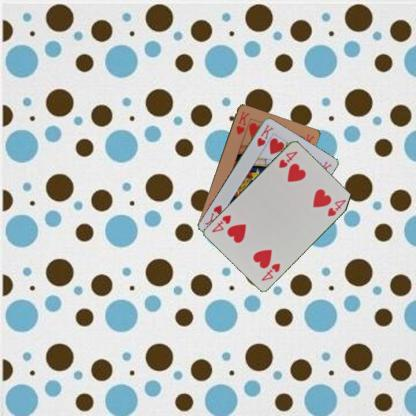4h: (276, 148, 299, 170), (259, 261, 281, 282)
Kh: (254, 122, 275, 148), (233, 108, 251, 136)
